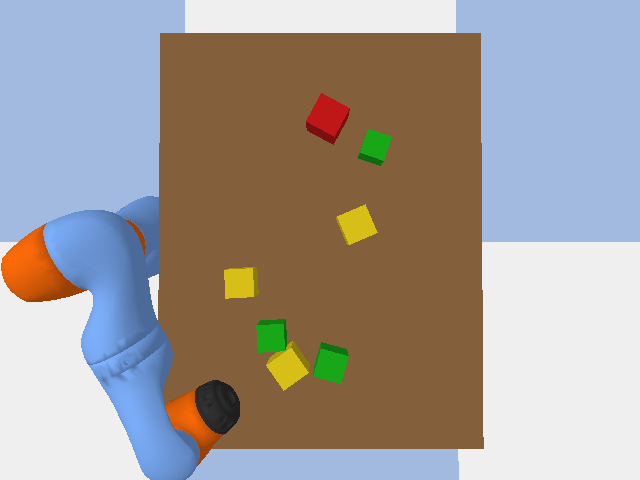green_obj: (313, 342, 348, 383), (358, 129, 391, 165), (256, 319, 286, 352)
red_obj: (306, 93, 349, 144)
yellow_obj: (266, 341, 309, 390), (336, 204, 377, 244), (224, 267, 258, 298)
